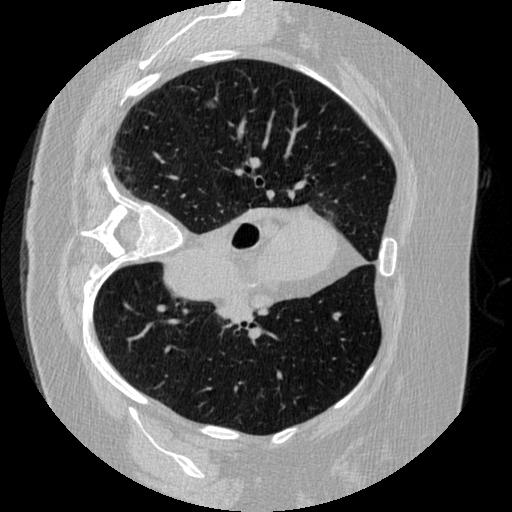nodule: (205, 97, 219, 111)
